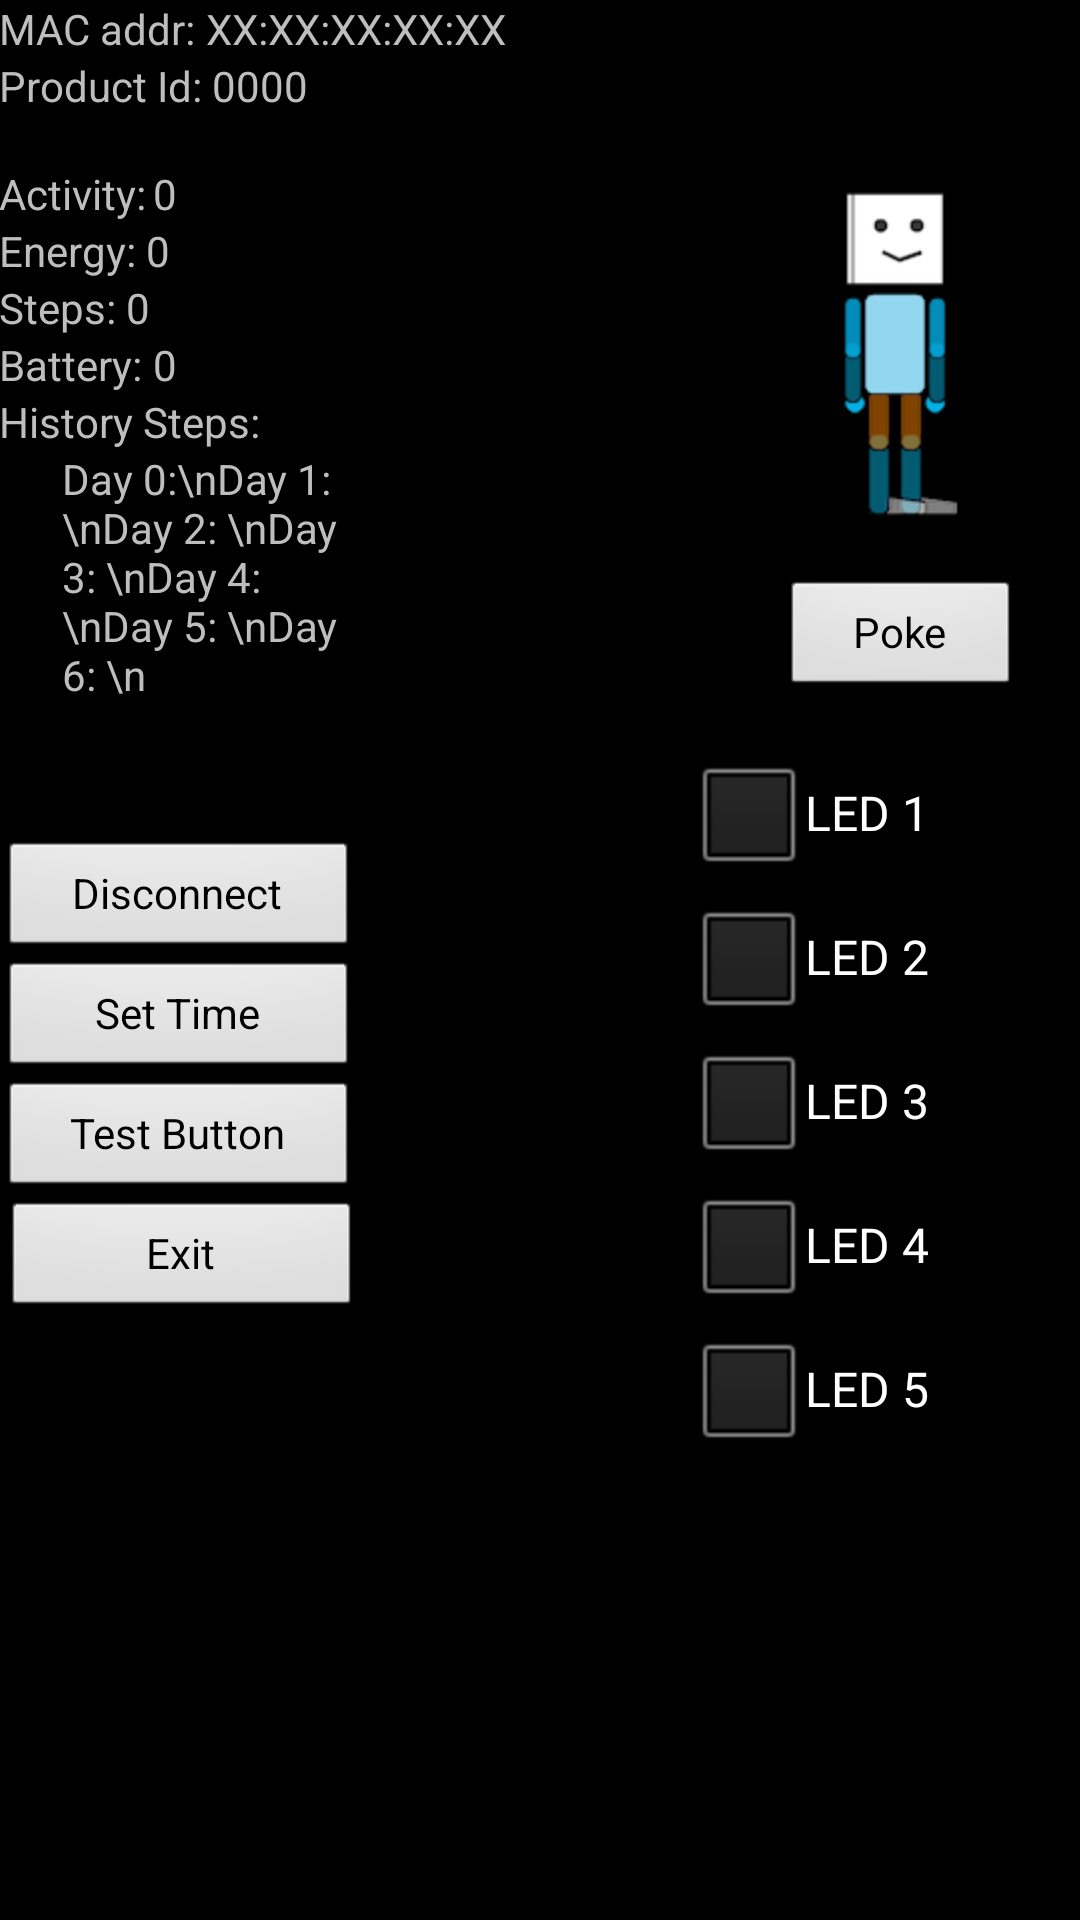

Where to tap for icons on this 1080 × 1920 app screen, as point (x, y):
Avatar Animations: point (901, 354)
